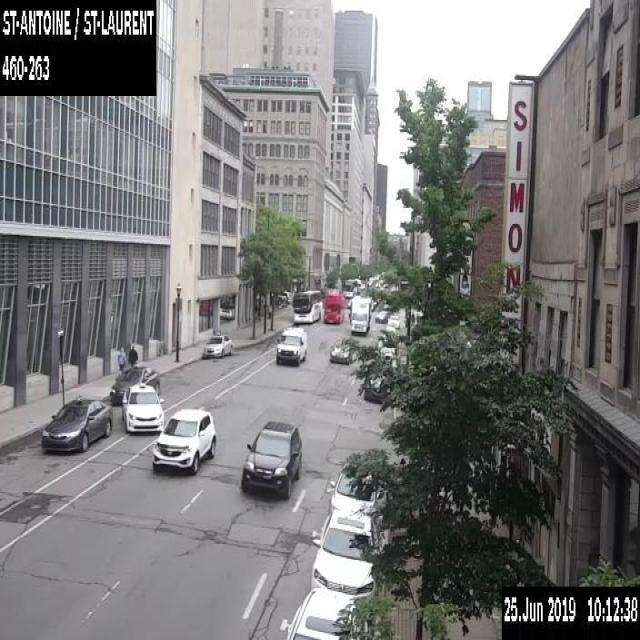bus: (293, 289, 322, 323), (323, 291, 345, 323)
pedestrian: (116, 344, 126, 372), (127, 343, 137, 367)
vehicle: (311, 509, 379, 597), (240, 420, 301, 498), (286, 586, 368, 638), (152, 406, 215, 472), (41, 394, 112, 450), (329, 462, 378, 516), (121, 381, 163, 434), (110, 365, 160, 404), (275, 326, 307, 364), (363, 361, 392, 402), (202, 331, 232, 357), (349, 296, 370, 333), (330, 338, 357, 363), (378, 333, 397, 354), (384, 323, 398, 338), (375, 310, 390, 322), (387, 314, 399, 328), (346, 297, 352, 308)
